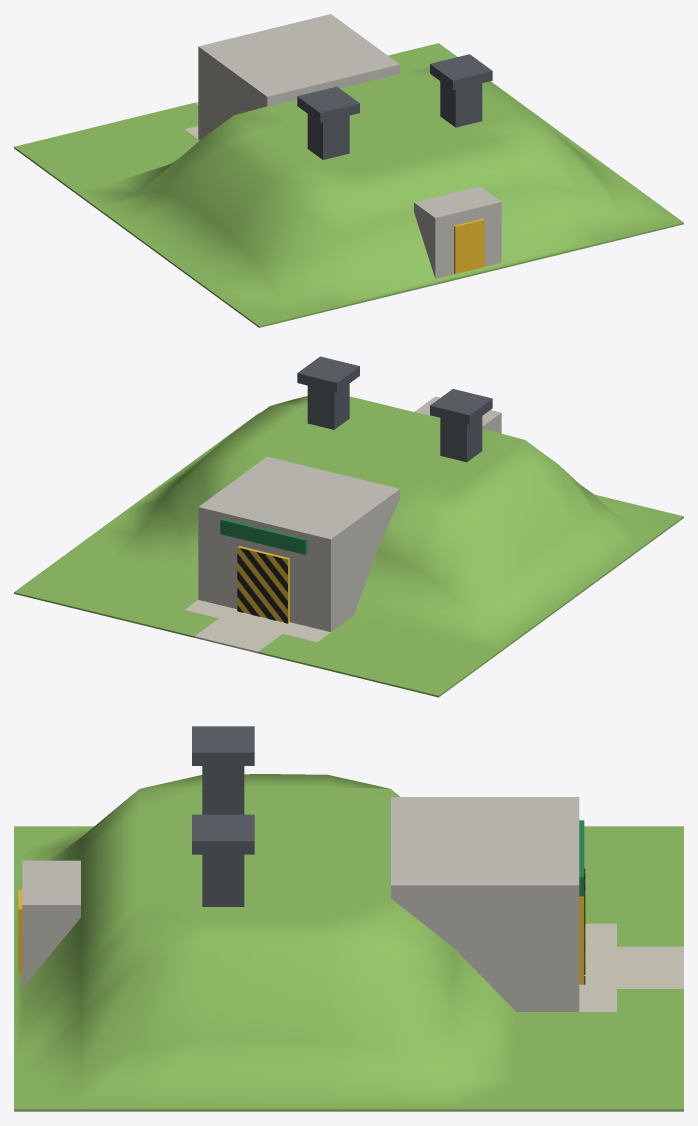
The model's file is shelter.glb.
The picture shows the model from 3 angles, top to bottom: view 1: azimuth 30°, elevation 25°; view 2: azimuth 150°, elevation 25°; view 3: azimuth 270°, elevation 25°; orthographic projection. The views are drawn at different scales.
Parts seen in each view (by area): view 1: mound, entrance_block, lawn, vent (×2), exit_block, door; view 2: mound, entrance_block, lawn, vent (×2), paving, hazard_stripes, door, sign, exit_block; view 3: mound, entrance_block, lawn, vent (×2), paving, exit_block.
Part boxes in pixels (box(x1,y1,x2,y2)): mound: box(75, 67, 683, 327); entrance_block: box(198, 14, 399, 139); lawn: box(14, 43, 499, 192); vent (×2): box(297, 54, 492, 159); exit_block: box(414, 186, 501, 278); door: box(454, 218, 484, 273); mound: box(76, 396, 683, 652); entrance_block: box(198, 456, 399, 631); lawn: box(14, 547, 499, 697); vent (×2): box(297, 356, 492, 462); paving: box(185, 600, 330, 653); hazard_stripes: box(237, 548, 287, 623); door: box(237, 546, 289, 623); sign: box(220, 518, 307, 554); exit_block: box(414, 396, 501, 433); mound: box(14, 774, 516, 1111); entrance_block: box(391, 797, 579, 1011); lawn: box(516, 826, 683, 1111); vent (×2): box(192, 726, 254, 906); paving: box(579, 923, 683, 1011); exit_block: box(22, 860, 80, 987).
Bounding box in the file's own units: 16 × 4.91 × 16.
